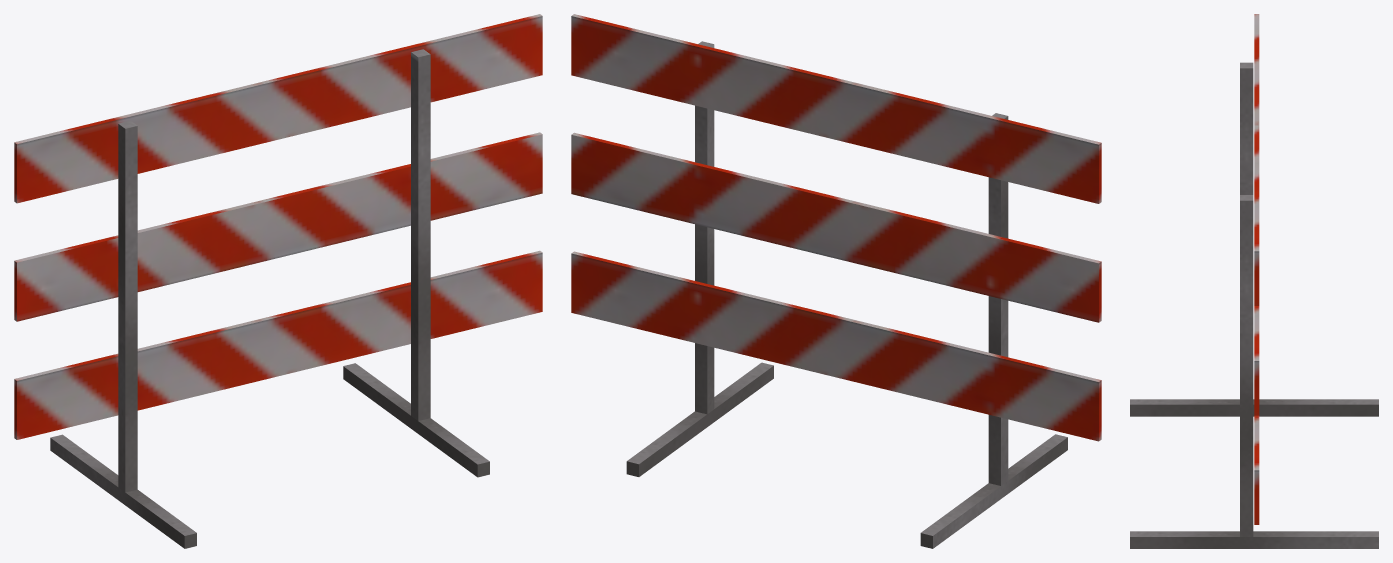
Rendered from Urban_Type3Barrier3Planks_Model.fbx.
3 views of the same model, side by side, from view 1: azimuth 30°, elevation 25°; view 2: azimuth 150°, elevation 25°; view 3: azimuth 270°, elevation 25° (orthographic). The views are drawn at different scales.
Visible parts, largest first — view 1: Urban_Type3Barrier3Planks_Mesh; view 2: Urban_Type3Barrier3Planks_Mesh; view 3: Urban_Type3Barrier3Planks_Mesh.
Boxes of the visible parts, x1,y1,x2,y2 form: Urban_Type3Barrier3Planks_Mesh: (14, 14, 542, 548); Urban_Type3Barrier3Planks_Mesh: (571, 14, 1101, 548); Urban_Type3Barrier3Planks_Mesh: (1130, 14, 1378, 548).
Size of the model in its own units: 2.18 by 1.51 by 0.967.
